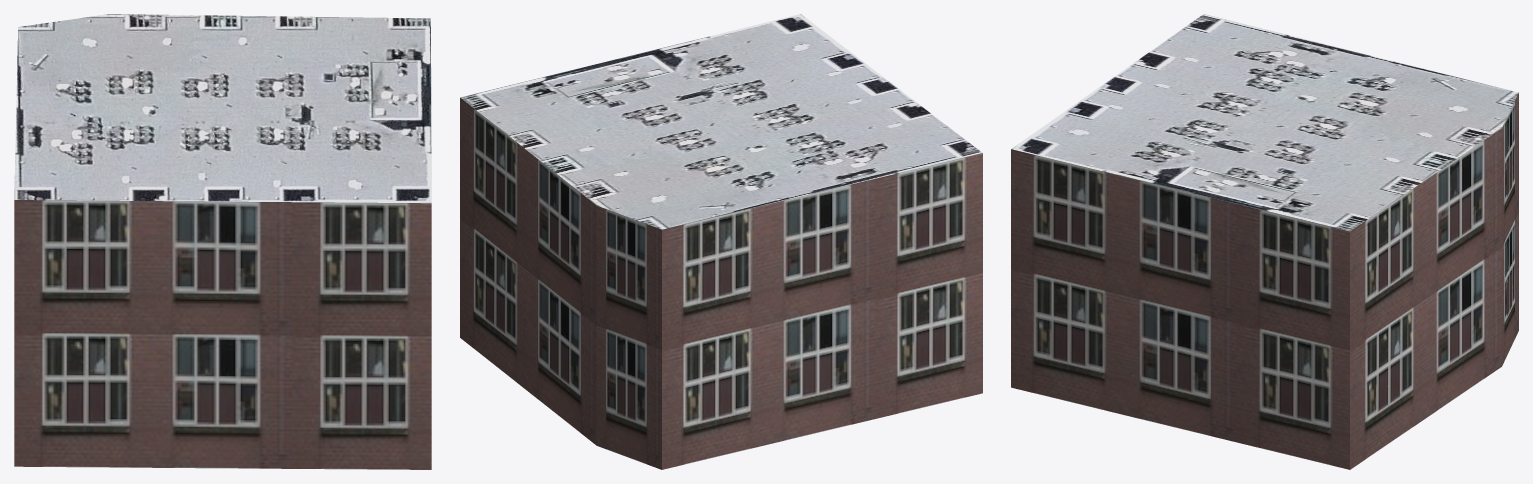
Rendered from ResTex__2540.fbx.
3 renders of one model, left to right at view 1: azimuth 30°, elevation 25°; view 2: azimuth 150°, elevation 25°; view 3: azimuth 270°, elevation 25°, orthographic. The views are drawn at different scales.
Parts seen in each view (by area): view 1: CityEngineMaterial_12_m, CityEngineMaterial_2_m; view 2: CityEngineMaterial_12_m, CityEngineMaterial_2_m; view 3: CityEngineMaterial_12_m, CityEngineMaterial_2_m.
Boxes of the visible parts, box(x1,y1,x2,y2) form: CityEngineMaterial_12_m: box(14, 200, 431, 469); CityEngineMaterial_2_m: box(14, 14, 431, 203); CityEngineMaterial_12_m: box(460, 98, 982, 469); CityEngineMaterial_2_m: box(460, 14, 982, 229); CityEngineMaterial_12_m: box(1011, 93, 1518, 469); CityEngineMaterial_2_m: box(1011, 14, 1518, 231).
Bounding box in the file's own units: 11.74 × 6 × 11.58.
2 materials, 2 textured.
